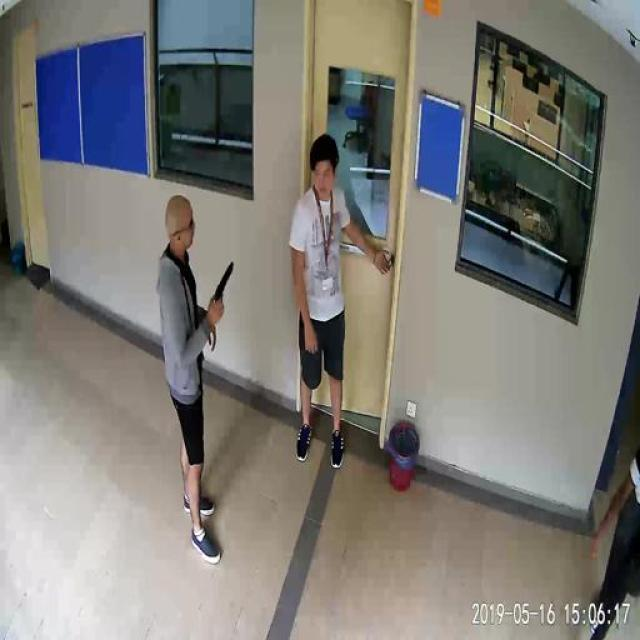Gun: (200, 261, 243, 318)
